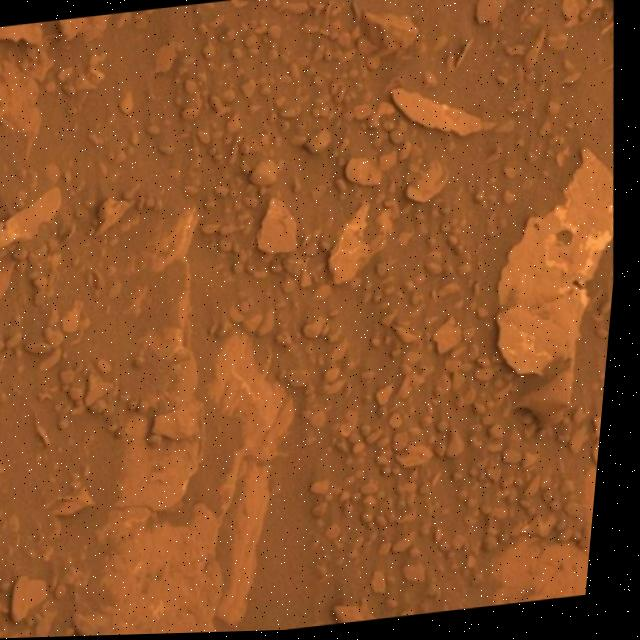mars-rocks: (498, 149, 618, 427), (392, 89, 499, 139), (331, 205, 372, 287), (361, 13, 418, 58), (259, 199, 300, 256), (158, 402, 208, 442), (409, 163, 451, 205), (19, 579, 55, 624), (98, 200, 132, 236), (346, 158, 384, 188)
